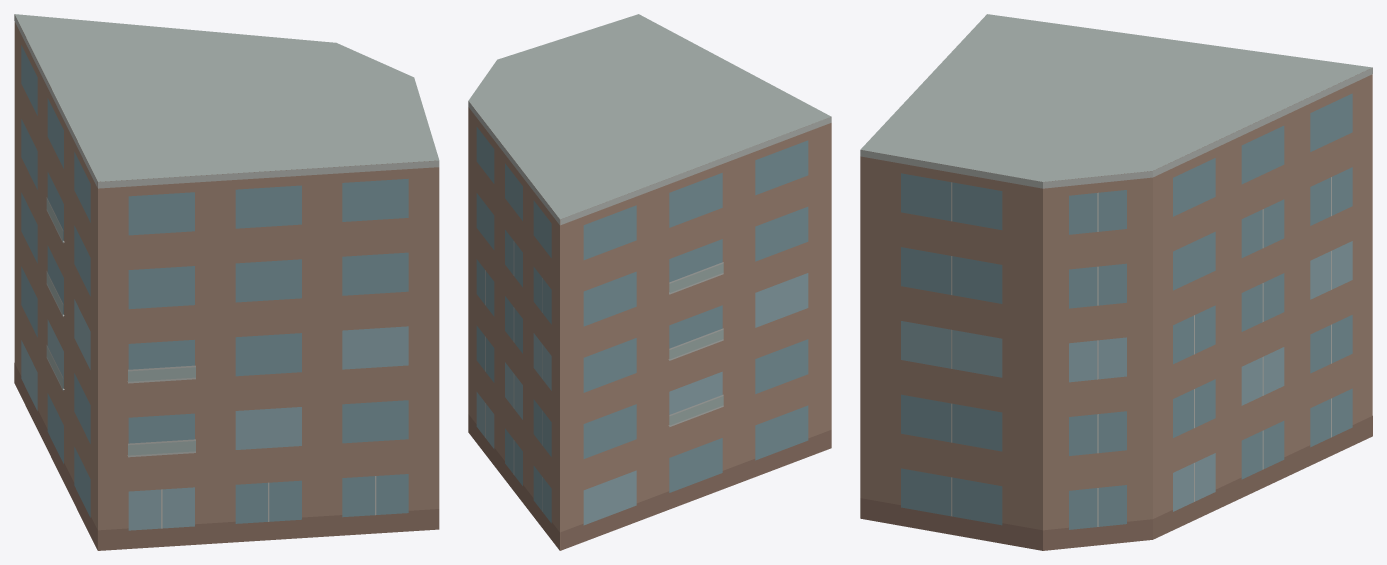
Rendered from survey-upis-32893450.glb.
The picture shows the model from 3 angles, left to right: view 1: azimuth 30°, elevation 25°; view 2: azimuth 150°, elevation 25°; view 3: azimuth 270°, elevation 25°; orthographic projection. The views are drawn at different scales.
Visible parts, largest first — view 1: survey-upis-32893450.tmp; view 2: survey-upis-32893450.tmp; view 3: survey-upis-32893450.tmp.
Boxes of the visible parts, x1,y1,x2,y2 form: survey-upis-32893450.tmp: [14, 14, 439, 550]; survey-upis-32893450.tmp: [468, 14, 831, 550]; survey-upis-32893450.tmp: [860, 14, 1372, 550].
Bounding box in the file's own units: 13.2 × 13.5 × 17.01.
